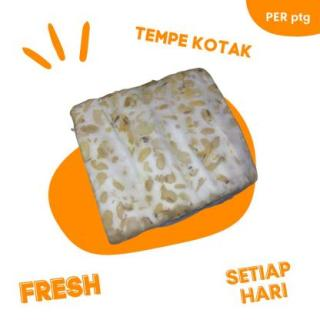Tempe: (68, 68, 262, 246)
